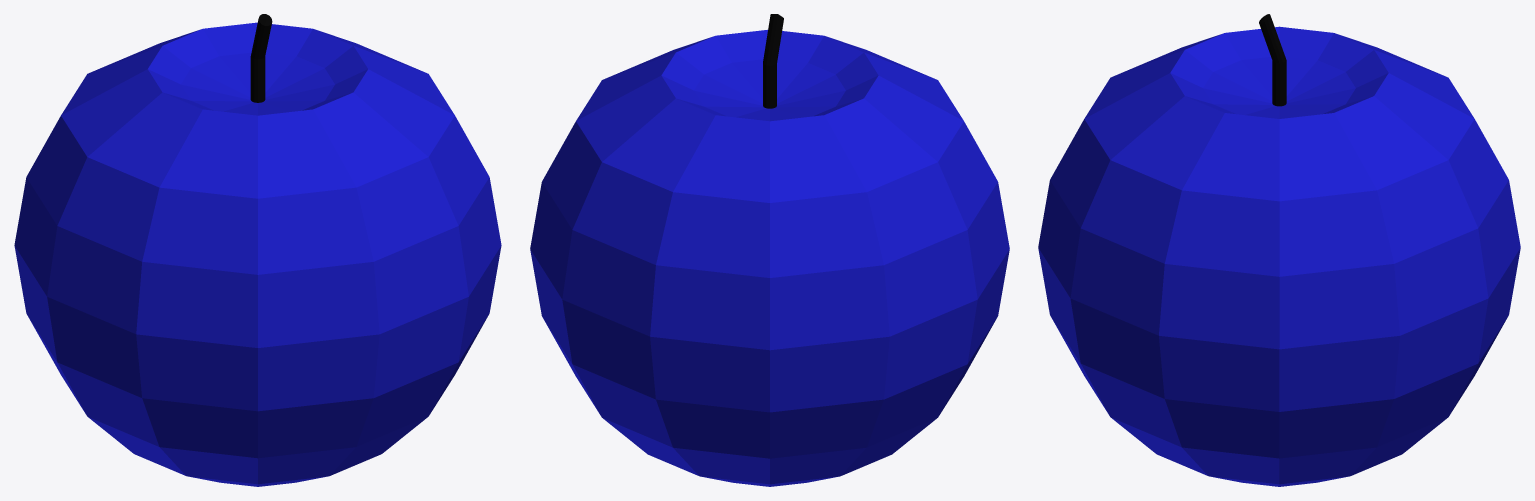
The model's file is demApplesBlue.fbx.
3 views of the same model, side by side, from view 1: azimuth 30°, elevation 25°; view 2: azimuth 150°, elevation 25°; view 3: azimuth 270°, elevation 25° (orthographic).
Visible parts, largest first — view 1: Sphere; view 2: Sphere; view 3: Sphere.
Boxes of the visible parts, x1=… form: Sphere: x1=14, y1=14, x2=501, y2=486; Sphere: x1=530, y1=14, x2=1009, y2=486; Sphere: x1=1038, y1=14, x2=1520, y2=486.
Size of the model in its own units: 200 by 206 by 200.
